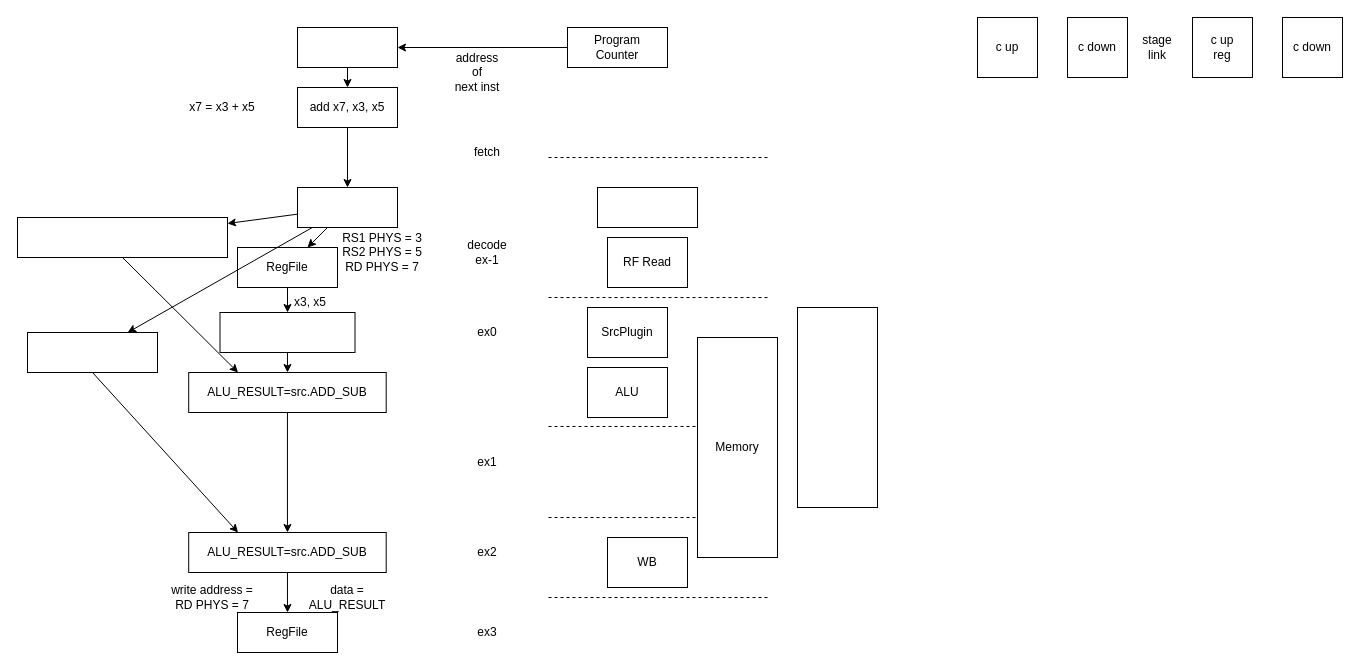
This 1360x670 diagram has some shape labels left out. Here are the shapes that lost their labels. From the top down, the box of each, then its label:
(296, 26, 398, 68): Instruction Memory
(296, 186, 398, 228): Decoding Logic
(596, 186, 698, 228): Dispatch Hazard detection
(16, 216, 228, 258): IntAlu.ALU_CTRL=ADD_SUB
(26, 332, 158, 372): writeback.SEL = true
(219, 312, 355, 352): srcp.ADD_SUB = x3+x5
(796, 306, 878, 508): Branch
